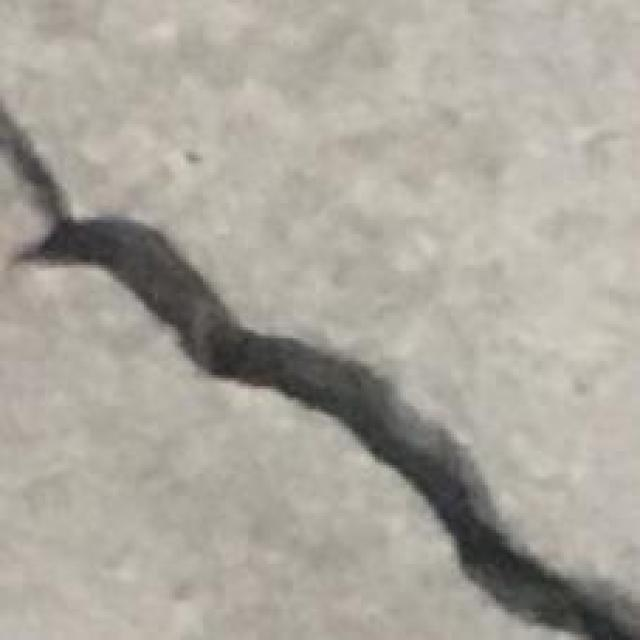Crack: (8, 107, 640, 626)
